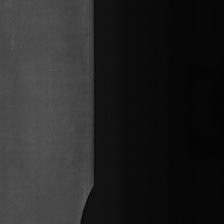crescent_gap: (74, 176, 102, 224)
